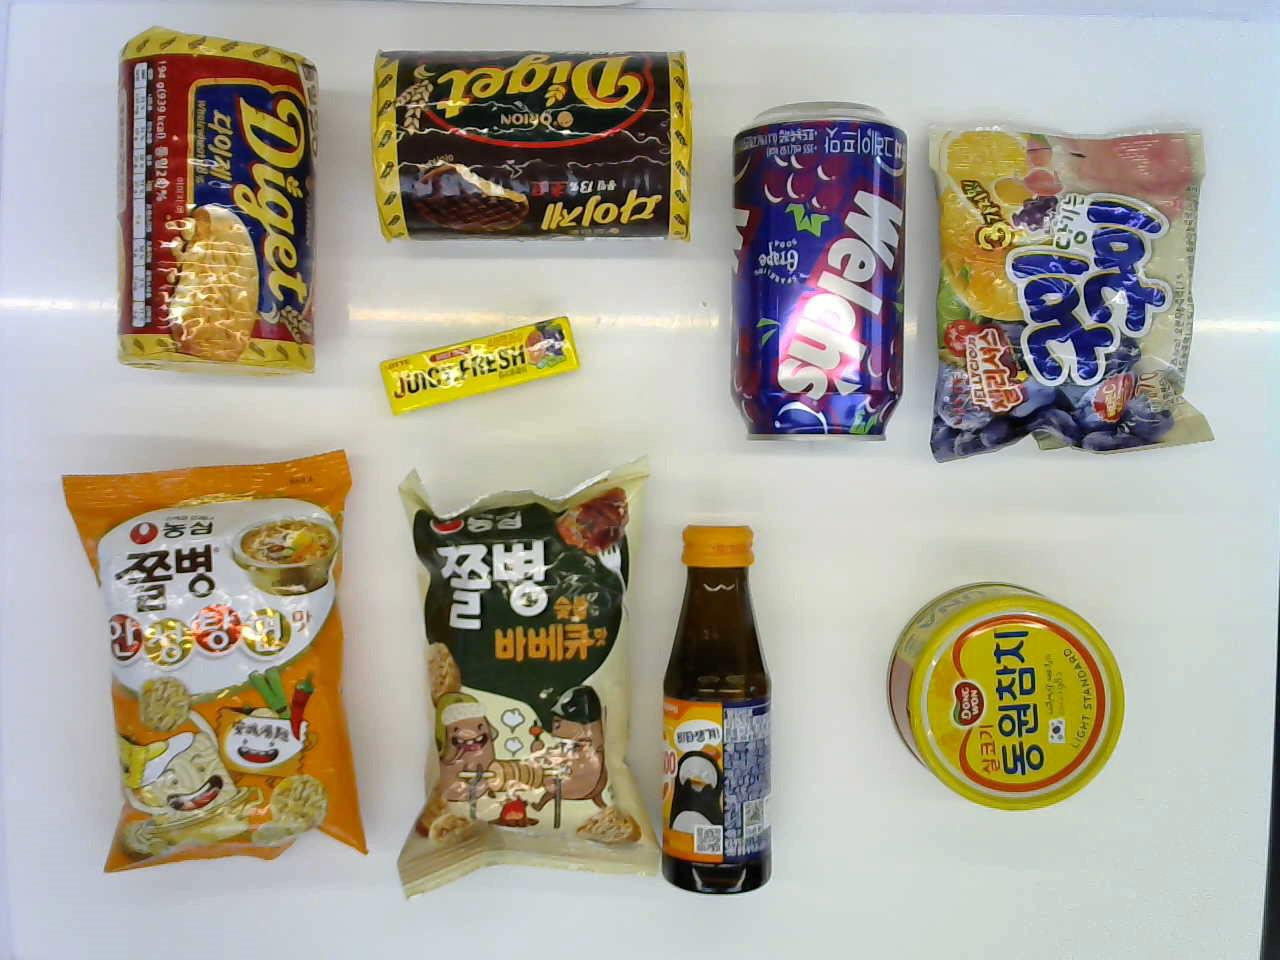diget_choco: (375, 24, 710, 259)
diget_ori: (105, 35, 321, 379)
gumi_gumi: (931, 107, 1224, 457)
jjolbyung_noodle: (59, 451, 365, 869)
jjolbyung_ori: (360, 462, 666, 880)
juicyfresh: (375, 314, 573, 411)
tuna: (891, 550, 1148, 834)
vita500: (660, 511, 780, 908)
welchs: (732, 96, 920, 460)
